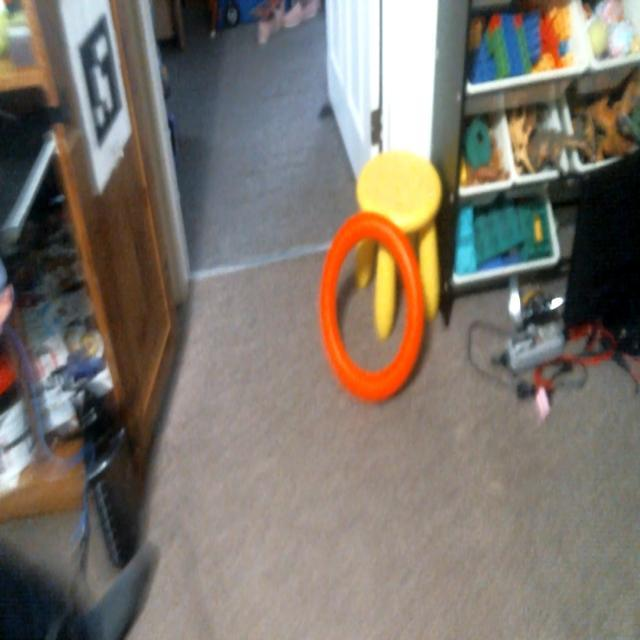note: (319, 208, 426, 404)
